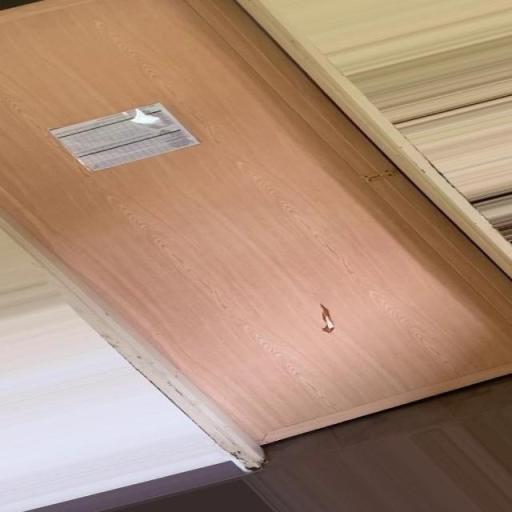door: (1, 0, 511, 450)
